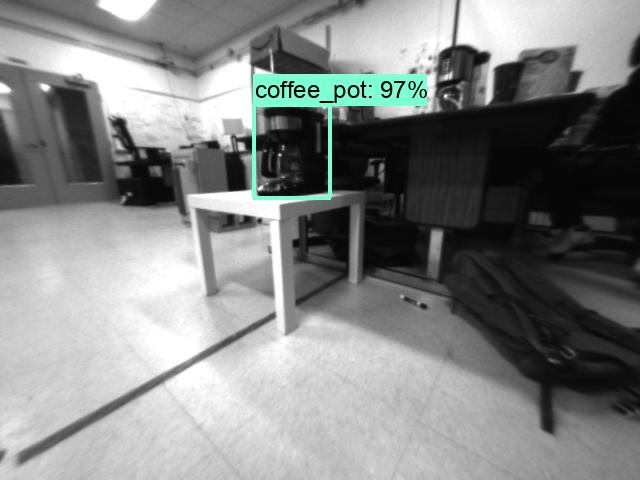coffee_pot: (256, 106, 328, 198)
